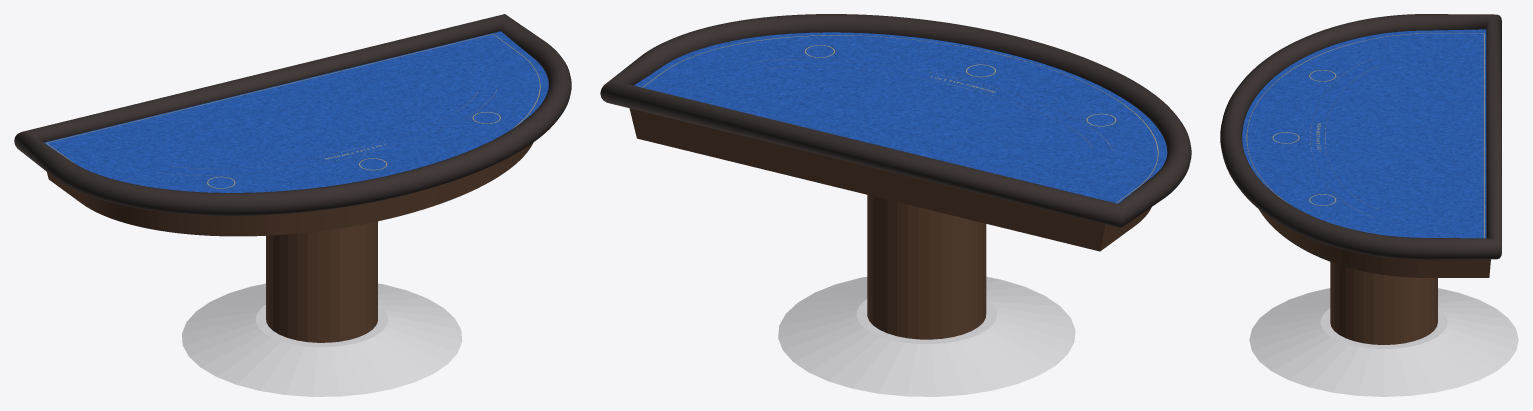
File: blackjack.glb
3 renders of one model, left to right at view 1: azimuth 30°, elevation 25°; view 2: azimuth 150°, elevation 25°; view 3: azimuth 270°, elevation 25°, orthographic. The views are drawn at different scales.
Parts seen in each view (by area): view 1: Felt, Rail, Foot, Pedestal, Body, Print; view 2: Felt, Rail, Foot, Pedestal, Body, Print; view 3: Felt, Foot, Rail, Pedestal, Body, Print.
Boxes of the visible parts, box(x1,y1,x2,y2) form: Felt: box(44, 31, 548, 192); Rail: box(14, 14, 571, 215); Foot: box(182, 283, 462, 396); Pedestal: box(266, 221, 377, 342); Body: box(47, 142, 533, 236); Print: box(46, 34, 540, 188); Felt: box(634, 32, 1167, 203); Rail: box(600, 14, 1191, 227); Foot: box(778, 276, 1075, 396); Pedestal: box(867, 195, 986, 339); Body: box(629, 108, 1151, 251); Print: box(642, 35, 1158, 203); Felt: box(1242, 29, 1486, 238); Foot: box(1249, 288, 1518, 396); Rail: box(1220, 14, 1501, 259); Pedestal: box(1330, 262, 1437, 344); Body: box(1259, 209, 1490, 277); Print: box(1246, 33, 1484, 238).
Size of the model in its own units: 2.25 by 0.96 by 1.22.
5 materials, 2 textured.
